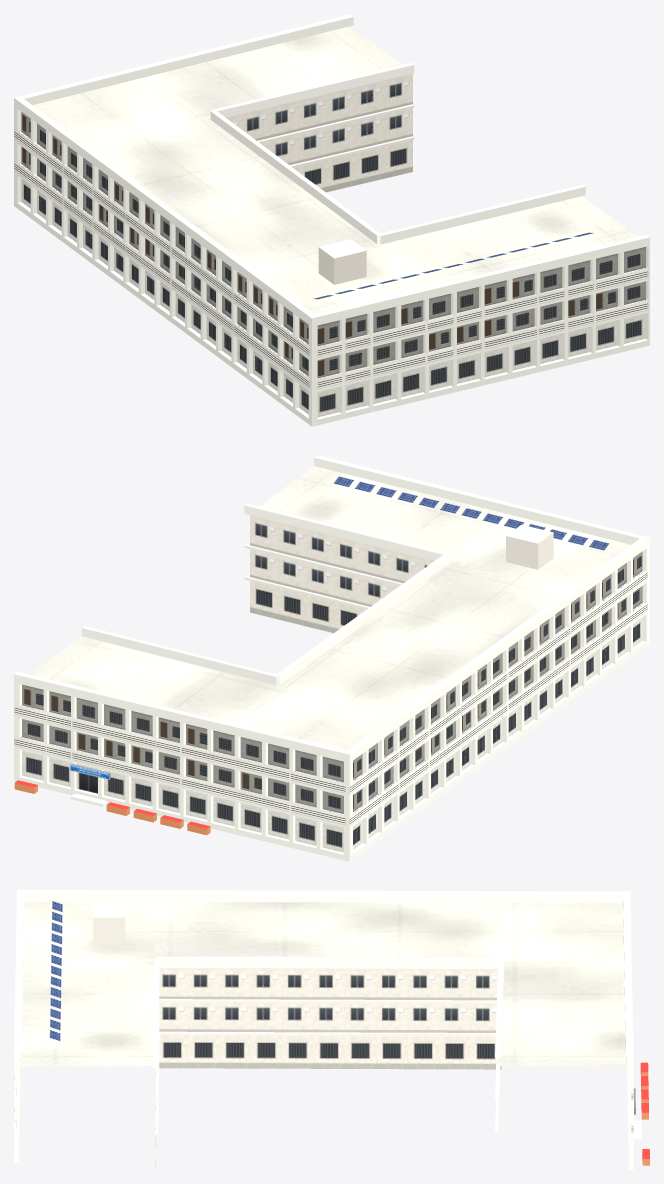
Rendered from pppdc-east.glb.
3 views of the same model, one above another, from view 1: azimuth 30°, elevation 25°; view 2: azimuth 150°, elevation 25°; view 3: azimuth 270°, elevation 25° (orthographic). The views are drawn at different scales.
Visible parts, largest first — view 1: PPPDC-east; view 2: PPPDC-east; view 3: PPPDC-east.
Part boxes in pixels (x1,y1,x2,y2): PPPDC-east: (14, 14, 649, 426); PPPDC-east: (14, 455, 649, 861); PPPDC-east: (14, 890, 649, 1169).
Bounding box in the file's own units: 37.83 × 13.4 × 59.98.
1 material, 1 textured.
